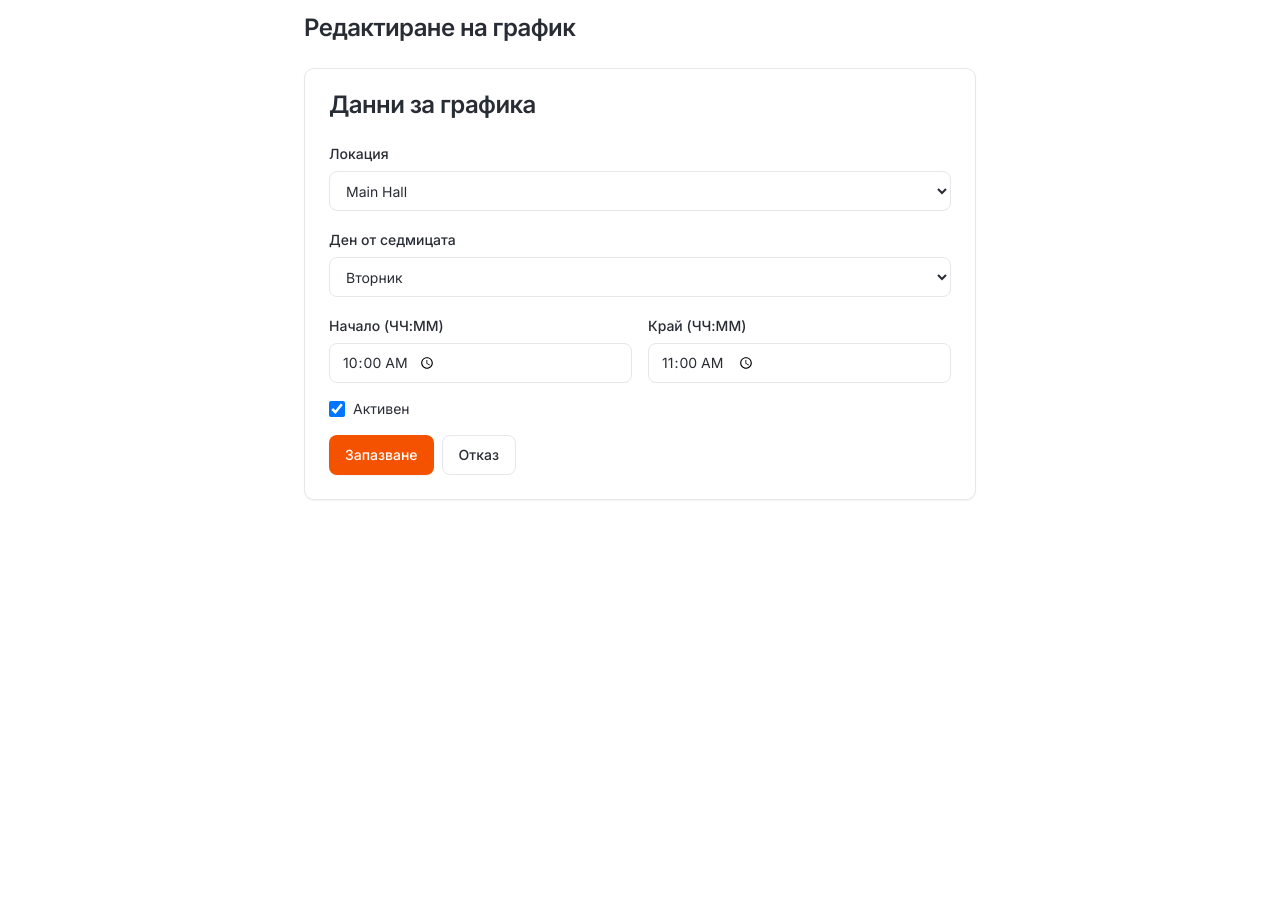
Test: schedule form pages › edit: prefills, sends isActive on save, stays put and keeps the saved values
The width and height of the screenshot is (1280, 912).
Expected: the time field with id "startTime" holds "10:00", [329,343,632,383]
Expected: the dropdown with id "locationId" shows "Main Hall", [329,171,951,211]
Replace the text in the time field with id "endTime" with "12:00" at [800, 363], box [648,343,951,383]
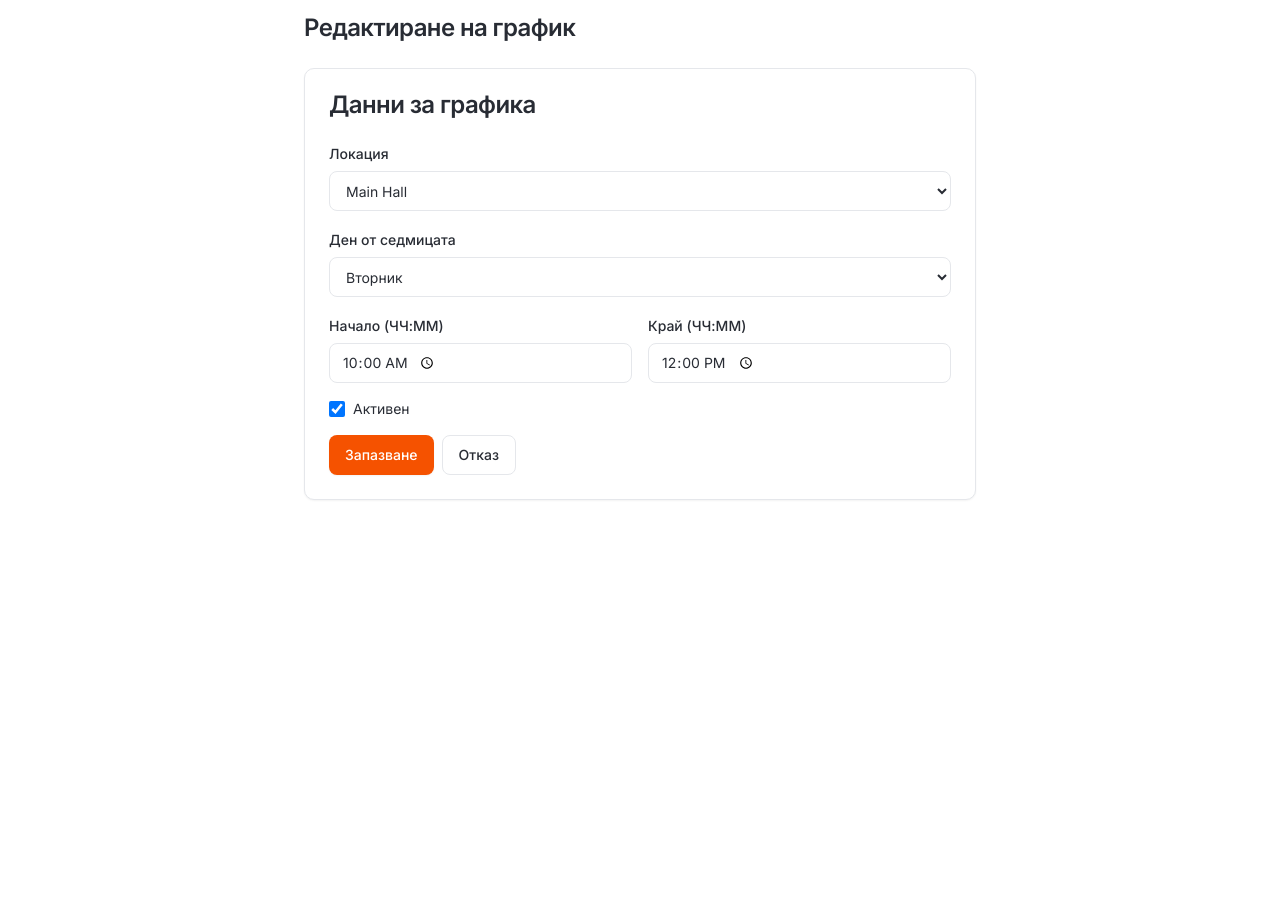
Click the submit button.
click(381, 455)  # box [329,435,434,475]
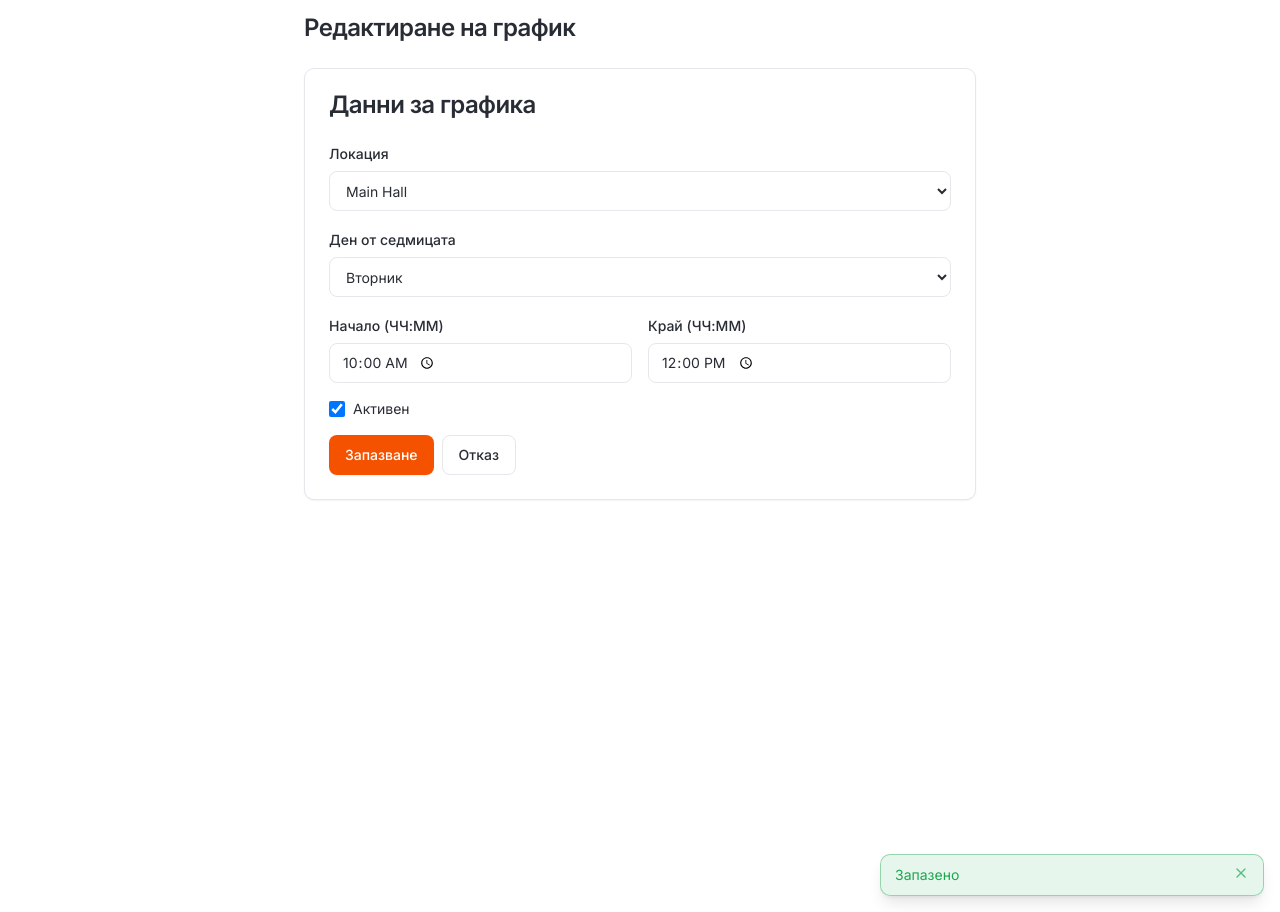
Expected: the time field with id "startTime" holds "10:00", [329,343,632,383]
Now the text "Запазено" is shown, box [895,866,959,883]
